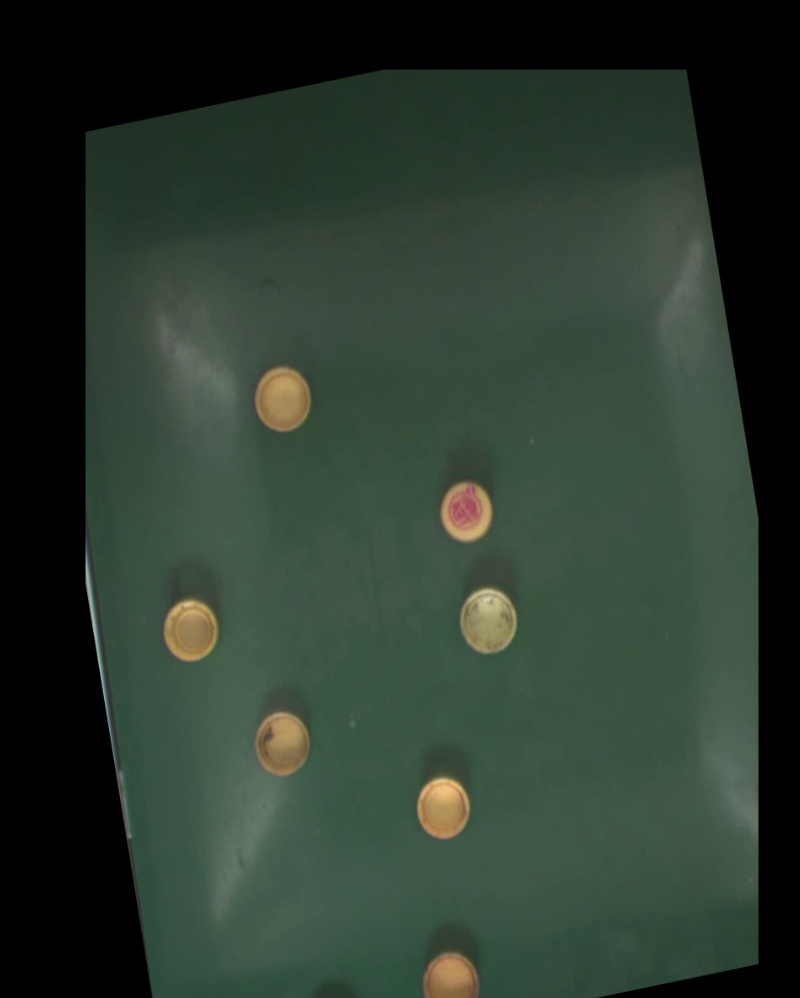Others: (250, 361, 316, 437), (456, 583, 521, 659), (249, 704, 314, 780), (411, 770, 476, 846), (158, 593, 224, 667), (434, 475, 498, 547), (418, 946, 484, 998)
